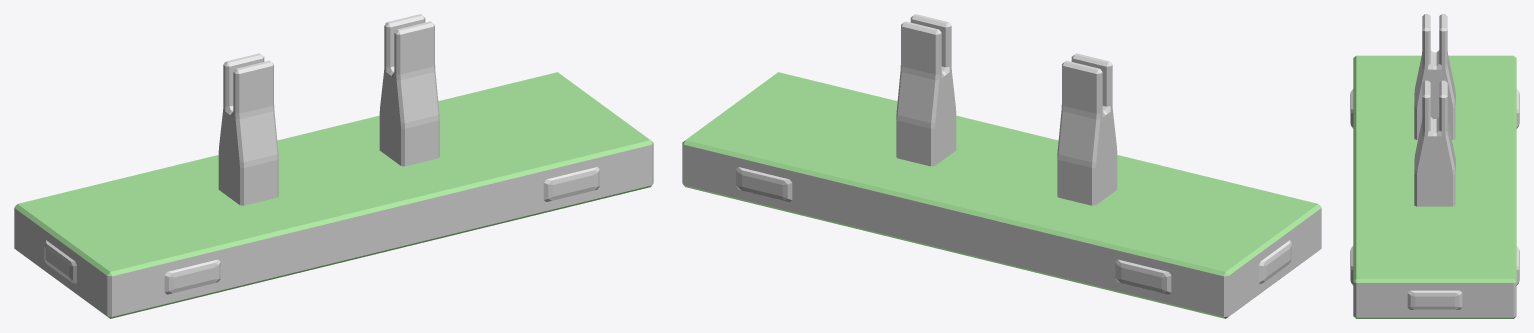
Rendered from switch_block_base.gltf.
The picture shows the model from 3 angles, left to right: view 1: azimuth 30°, elevation 25°; view 2: azimuth 150°, elevation 25°; view 3: azimuth 270°, elevation 25°; orthographic projection. The views are drawn at different scales.
Parts seen in each view (by area): view 1: switch_block_base; view 2: switch_block_base; view 3: switch_block_base.
Boxes of the visible parts, box(x1,y1,x2,y2) form: switch_block_base: box(14, 14, 653, 318); switch_block_base: box(682, 14, 1321, 318); switch_block_base: box(1350, 14, 1519, 318).
Size of the model in its own units: 0.2121 by 0.0653 by 0.0665.
